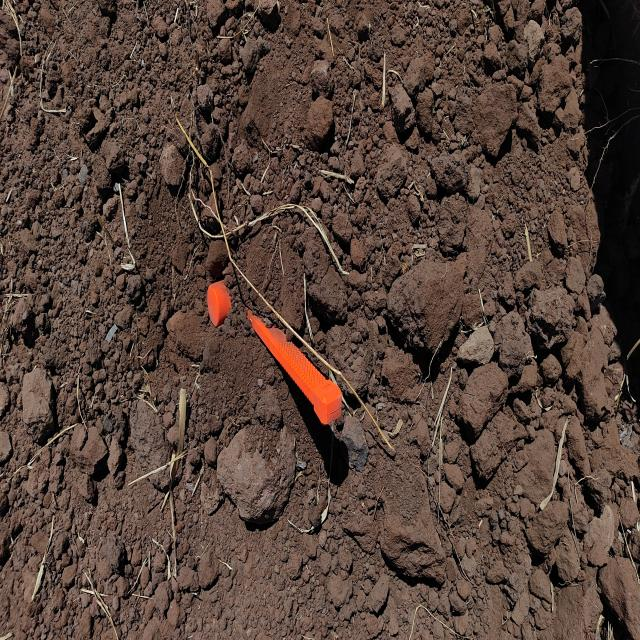Orange_hammer: (203, 280, 343, 423)
